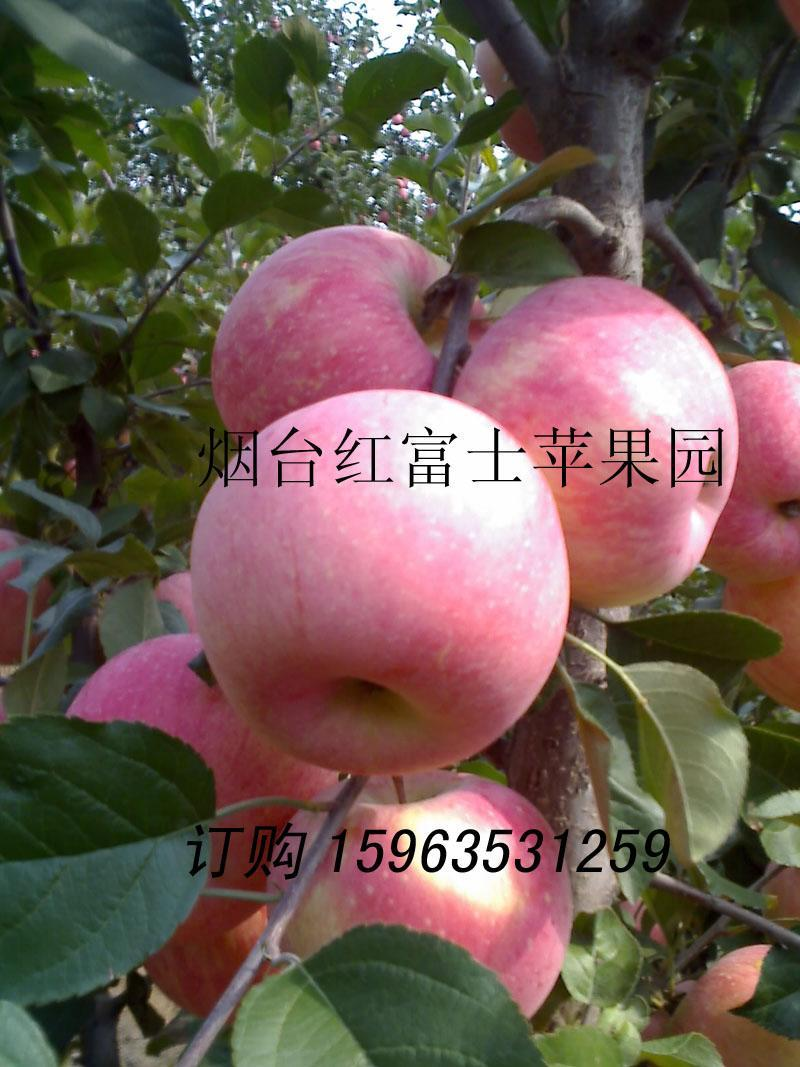apple: (189, 387, 571, 778), (440, 277, 753, 608), (266, 771, 579, 1043), (208, 224, 448, 441), (692, 359, 799, 584)
